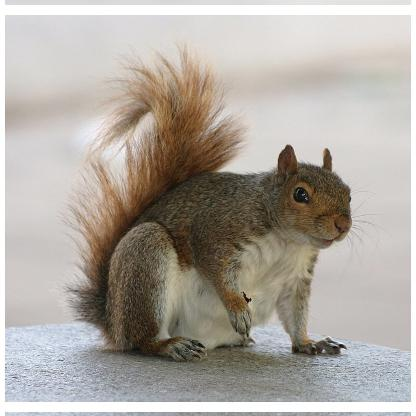Squirrel: (52, 35, 394, 360)
